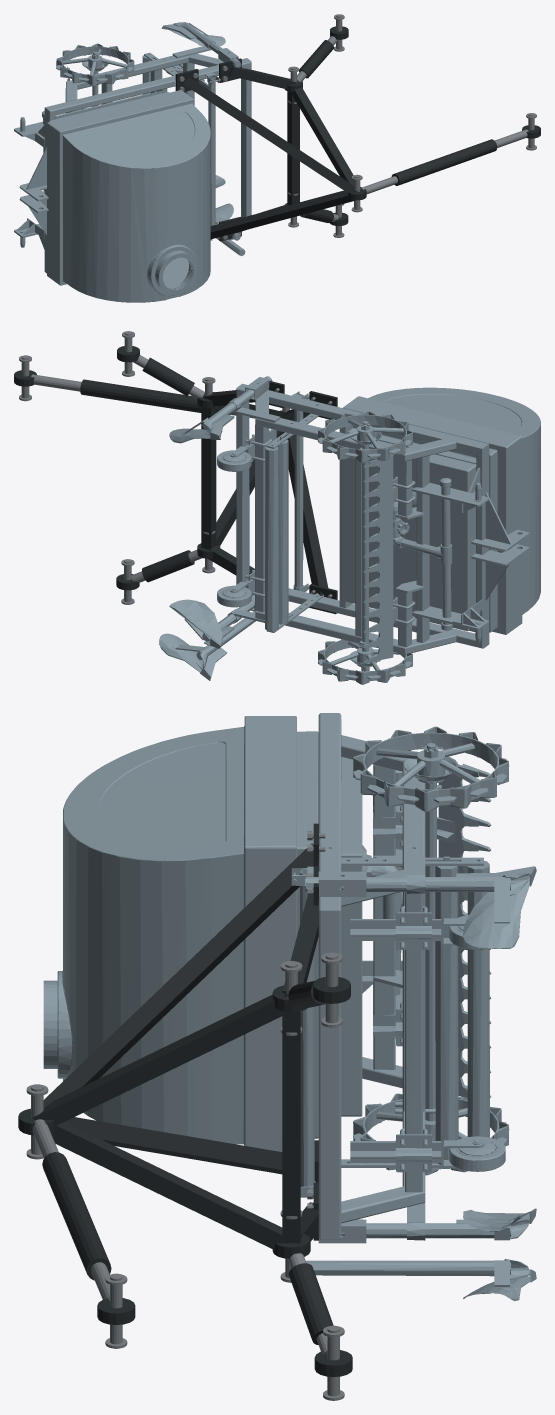
The model's file is implement_mulch_planter_visual.obj.
The picture shows the model from 3 angles, top to bottom: view 1: azimuth 30°, elevation 25°; view 2: azimuth 150°, elevation 25°; view 3: azimuth 270°, elevation 25°; orthographic projection. The views are drawn at different scales.
Parts seen in each view (by area): view 1: solid_82, hitch_receiver_member_5, solid_131, hitch_receiver_member_6, solid_21, solid_8, hitch_top_link_sleeve, hitch_receiver_member_1, hitch_receiver_member_0, solid_165, solid_24, hitch_receiver_member_3 (+4 smaller); view 2: solid_82, solid_47, solid_131, solid_74, solid_4, solid_21, solid_8, solid_110, hitch_top_link_sleeve, hitch_receiver_member_0, solid_77, solid_29 (+33 smaller); view 3: solid_82, hitch_receiver_member_5, solid_131, solid_8, hitch_receiver_member_1, hitch_receiver_member_2, solid_77, solid_74, hitch_receiver_member_6, hitch_receiver_member_0, solid_29, solid_21 (+27 smaller).
Part boxes in pixels (left/top/right/bottom): solid_82: left=47, top=90, right=210, bottom=302; hitch_receiver_member_5: left=184, top=77, right=358, bottom=192; solid_131: left=56, top=43, right=134, bottom=85; hitch_receiver_member_6: left=210, top=190, right=354, bottom=239; solid_21: left=45, top=58, right=251, bottom=115; solid_8: left=241, top=63, right=251, bottom=217; hitch_top_link_sleeve: left=391, top=139, right=497, bottom=185; hitch_receiver_member_1: left=292, top=81, right=361, bottom=192; hitch_receiver_member_0: left=287, top=91, right=299, bottom=205; solid_165: left=208, top=75, right=215, bottom=225; solid_24: left=67, top=55, right=188, bottom=89; hitch_receiver_member_3: left=229, top=67, right=296, bottom=89; solid_82: left=341, top=387, right=540, bottom=634; solid_47: left=368, top=455, right=393, bottom=659; solid_131: left=318, top=411, right=412, bottom=462; solid_74: left=265, top=446, right=278, bottom=631; solid_4: left=416, top=455, right=429, bottom=642; solid_21: left=236, top=383, right=488, bottom=453; solid_8: left=236, top=389, right=249, bottom=584; solid_110: left=318, top=639, right=412, bottom=684; hitch_top_link_sleeve: left=80, top=379, right=229, bottom=415; hitch_receiver_member_0: left=201, top=407, right=216, bottom=549; solid_77: left=278, top=439, right=288, bottom=624; solid_29: left=255, top=424, right=269, bottom=612; solid_82: left=43, top=716, right=366, bottom=1151; hitch_receiver_member_5: left=30, top=843, right=313, bottom=1114; solid_131: left=353, top=726, right=508, bottom=811; solid_8: left=318, top=910, right=341, bottom=1239; hitch_receiver_member_1: left=33, top=993, right=289, bottom=1126; hitch_receiver_member_2: left=42, top=1119, right=295, bottom=1249; solid_77: left=435, top=866, right=458, bottom=1164; solid_74: left=467, top=861, right=489, bottom=1137; hitch_receiver_member_6: left=65, top=1117, right=282, bottom=1174; hitch_receiver_member_0: left=282, top=1011, right=300, bottom=1243; solid_29: left=405, top=892, right=422, bottom=1192; solid_21: left=318, top=713, right=341, bottom=910.
Bounding box in the file's own units: 2.35 × 1.08 × 1.14.
